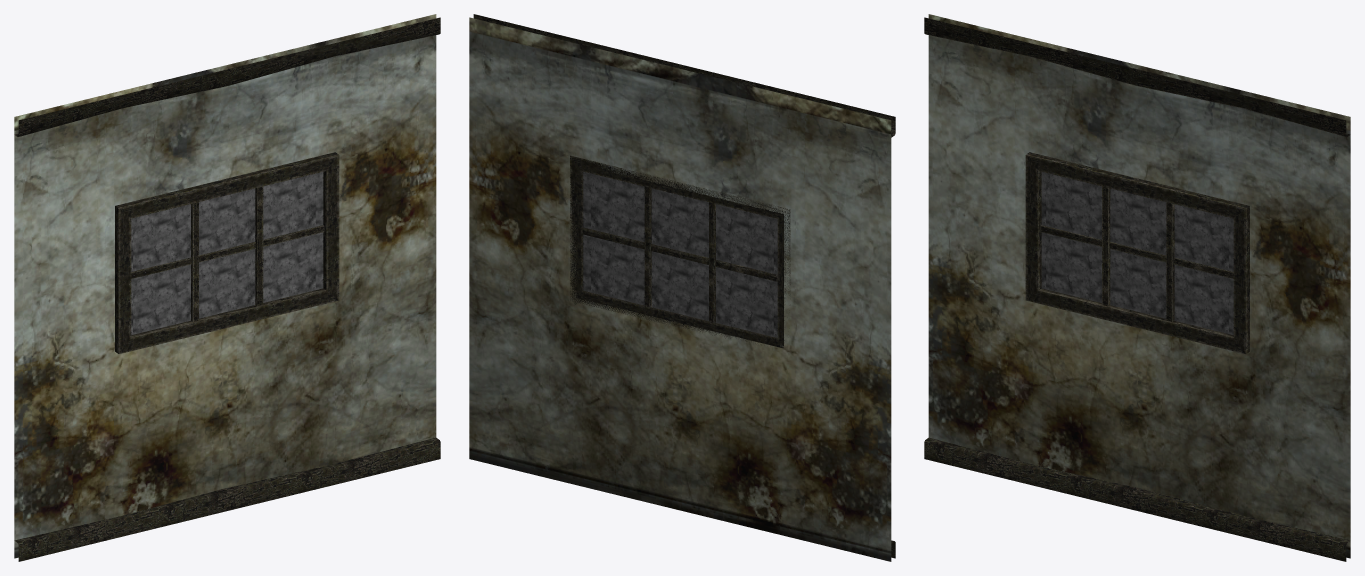
Rendered from cellar_wall_03_win_trans.DAE.
3 views of the same model, side by side, from view 1: azimuth 30°, elevation 25°; view 2: azimuth 150°, elevation 25°; view 3: azimuth 330°, elevation 25° (orthographic).
Parts seen in each view (by area): view 1: Box054, Plane004, Box055, Object014; view 2: Box054, Plane004, Object014, Box055; view 3: Box054, Plane004, Box055, Object014.
Boxes of the visible parts, x1,y1,x2,y2 form: Box054: [14, 14, 436, 558]; Plane004: [131, 172, 323, 334]; Box055: [14, 17, 440, 561]; Object014: [115, 152, 339, 353]; Box054: [469, 17, 891, 561]; Plane004: [583, 172, 777, 337]; Object014: [570, 155, 790, 348]; Box055: [473, 14, 895, 558]; Box054: [928, 14, 1350, 558]; Plane004: [1041, 172, 1233, 334]; Box055: [924, 17, 1350, 561]; Object014: [1025, 152, 1249, 353].
Bounding box in the file's own units: 4 × 4 × 0.0821.
